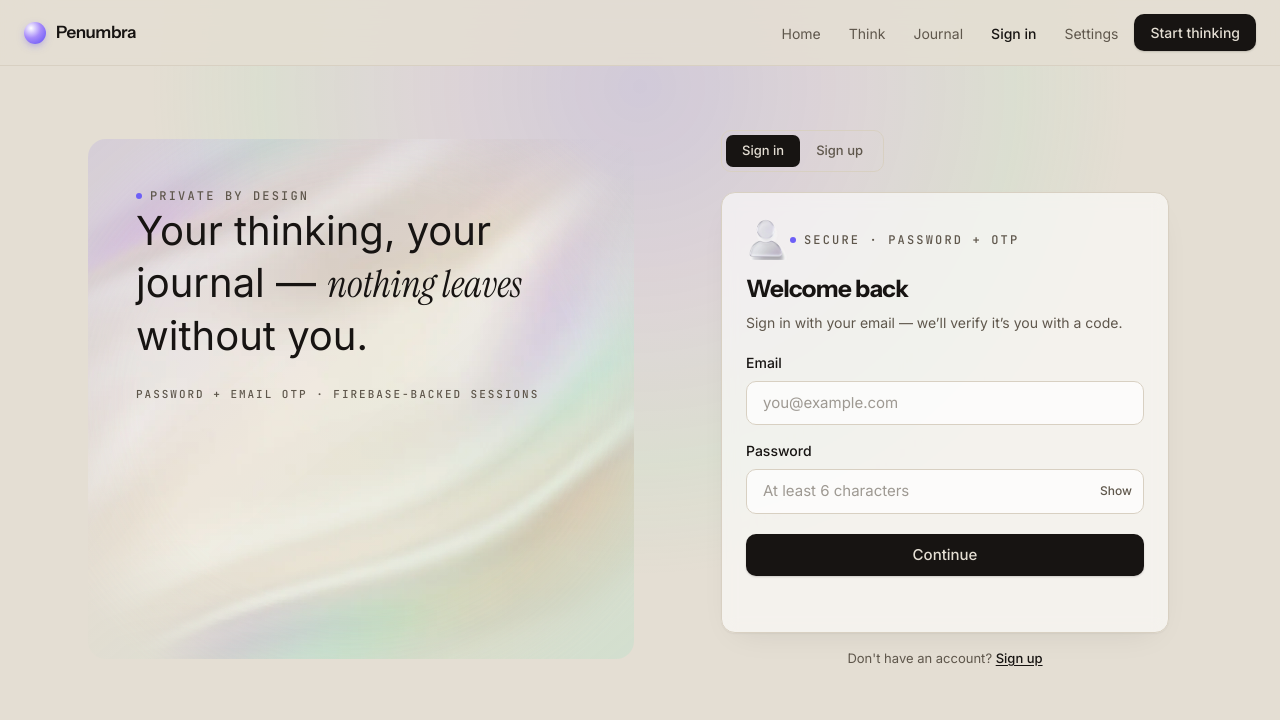
App shell › renders settings with labeled key input
Click the link "Settings".
click(1092, 33)  # box [1064,24,1118,42]
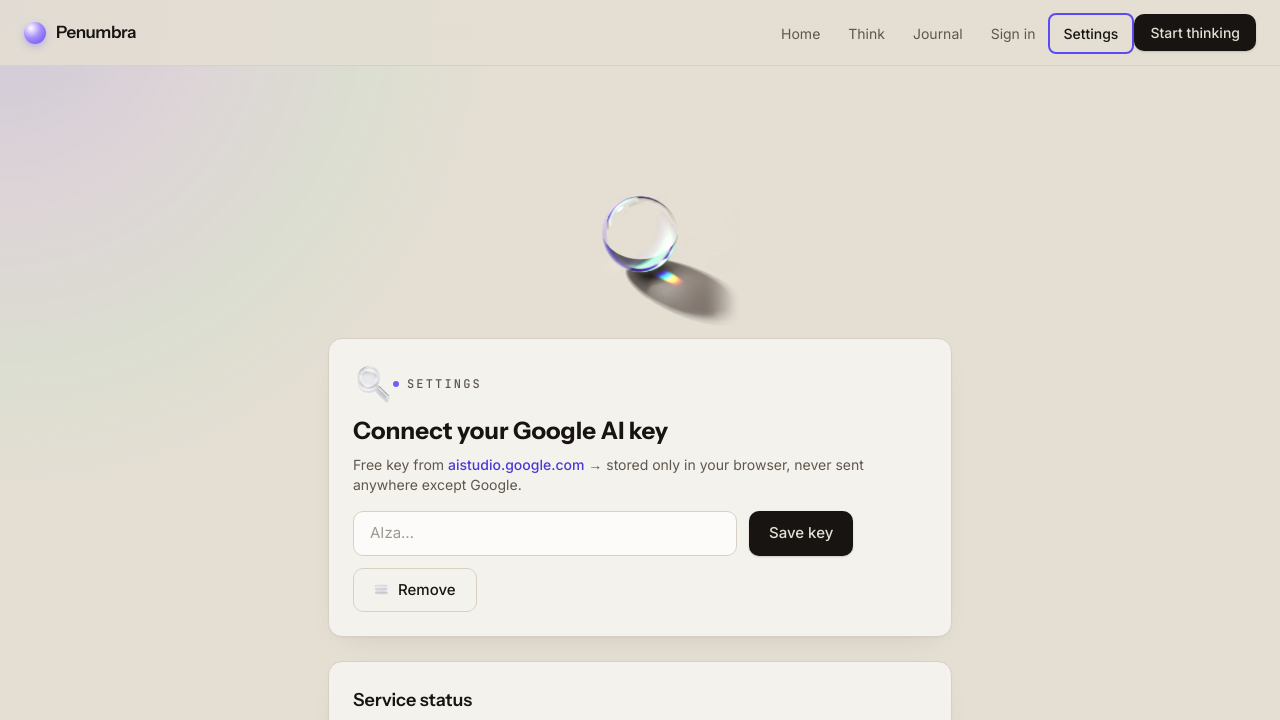
Expected: the password field named "gemini api key" is shown, [353,511,737,556]
Expected: the button "Save key" is shown, [749,511,853,556]
